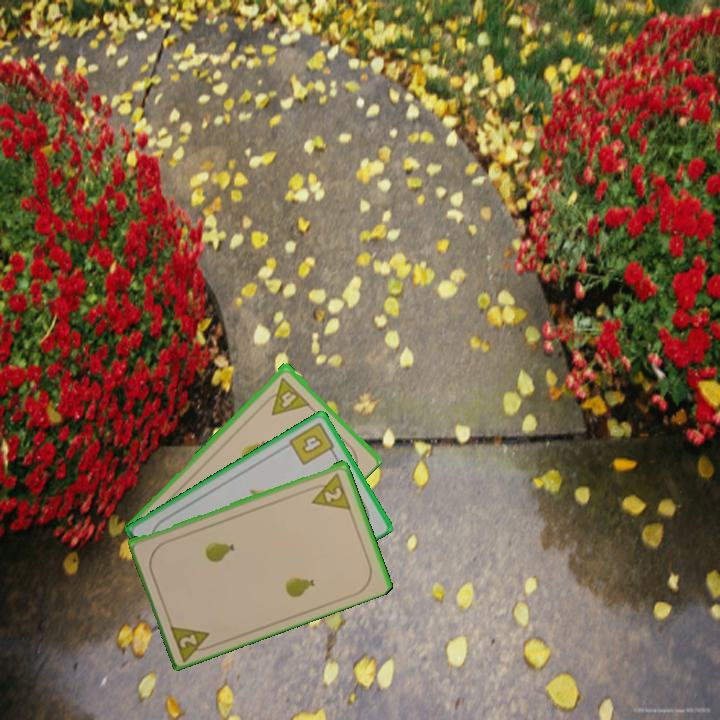2p: (166, 619, 218, 663), (305, 469, 354, 512)
4b: (285, 418, 339, 468)
4p: (259, 373, 312, 418)
